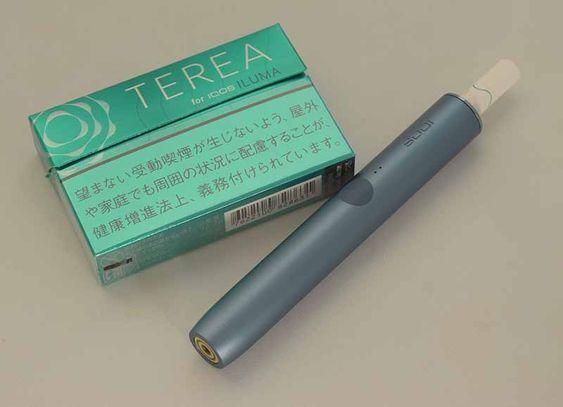iqos: (190, 59, 520, 365)
